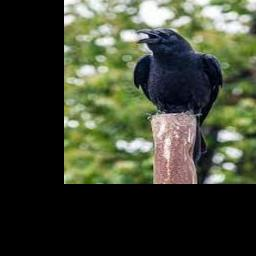Crow: (132, 28, 223, 167)
